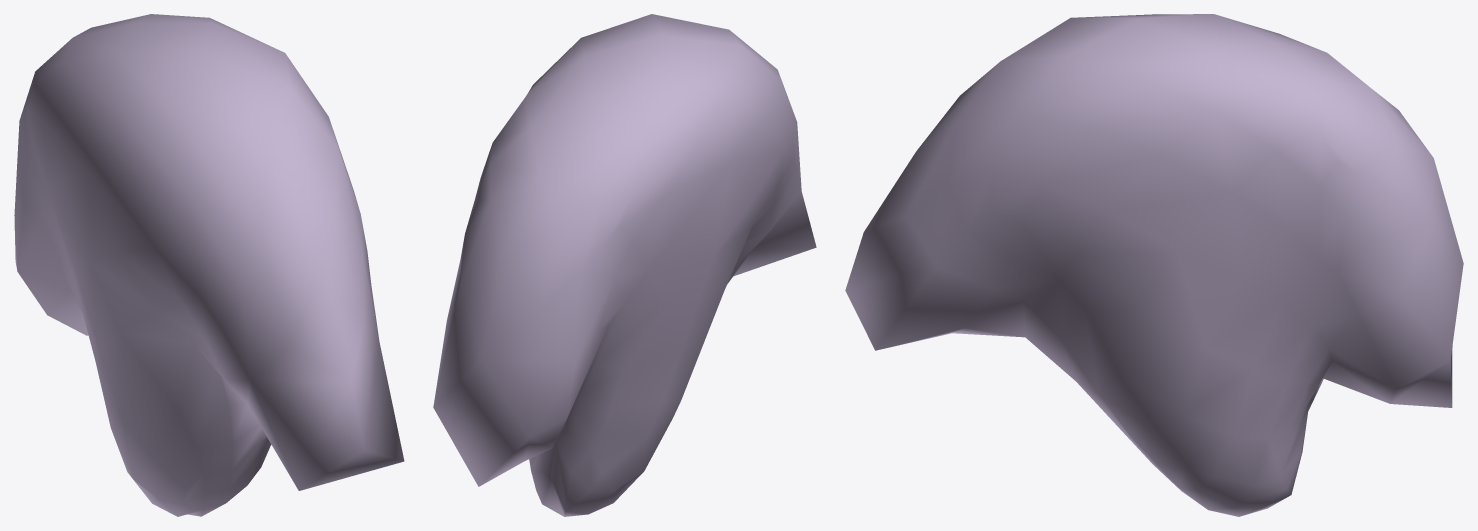
The model's file is Tail_18.fbx.
3 views of the same model, side by side, from view 1: azimuth 30°, elevation 25°; view 2: azimuth 150°, elevation 25°; view 3: azimuth 270°, elevation 25° (orthographic). The views are drawn at different scales.
Parts seen in each view (by area): view 1: Tail_18; view 2: Tail_18; view 3: Tail_18.
Boxes of the visible parts, x1=… form: Tail_18: x1=14, y1=14, x2=404, y2=516; Tail_18: x1=433, y1=14, x2=816, y2=516; Tail_18: x1=845, y1=14, x2=1463, y2=516.
Size of the model in its own units: 0.3007 by 0.6816 by 0.8035.
